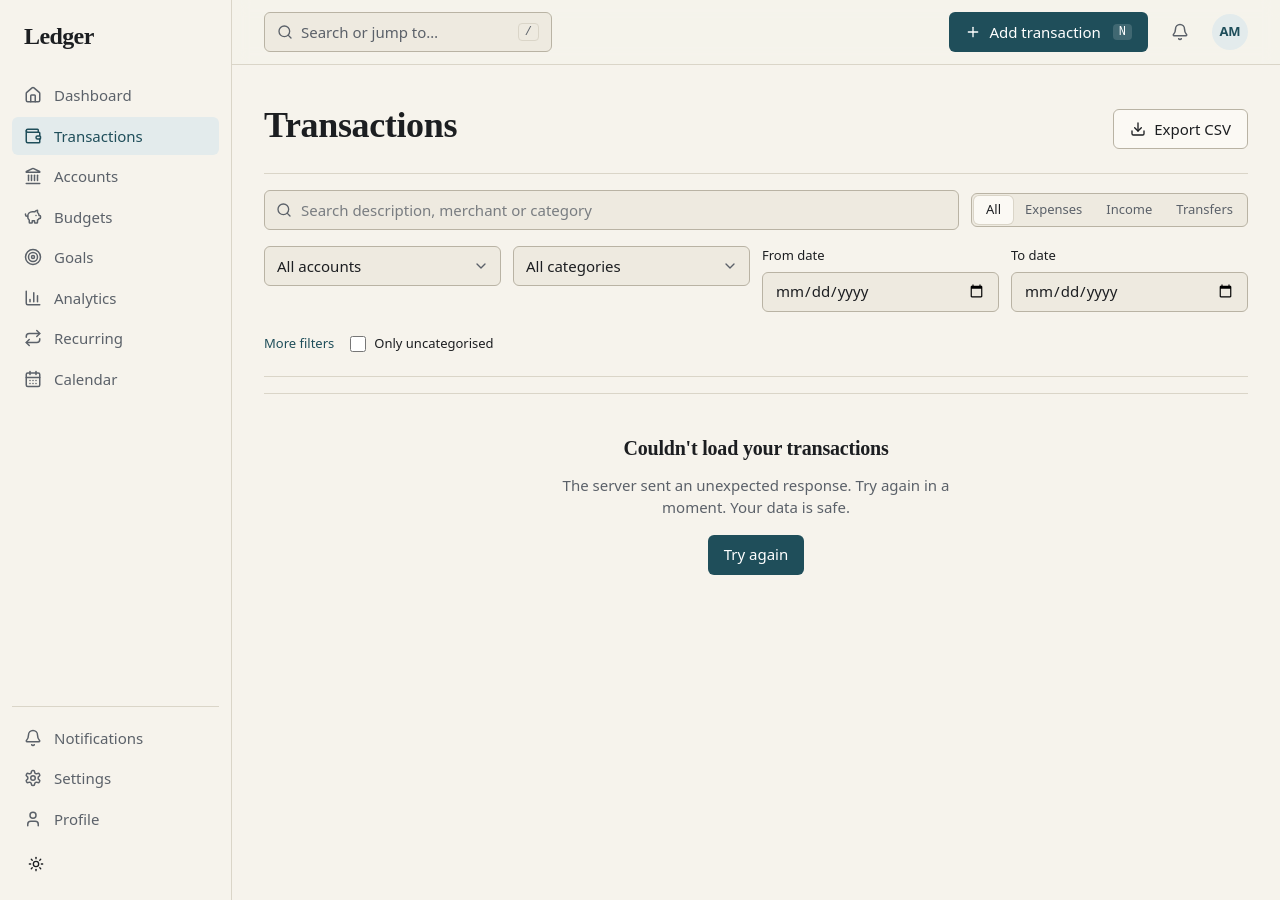
Scenario: transactions list › offers a retry when loading fails
expect the heading "Couldn't load your transactions" is shown: met, box [623, 434, 889, 462]
Click the button "Try again" at (756, 554), box [708, 534, 804, 574]
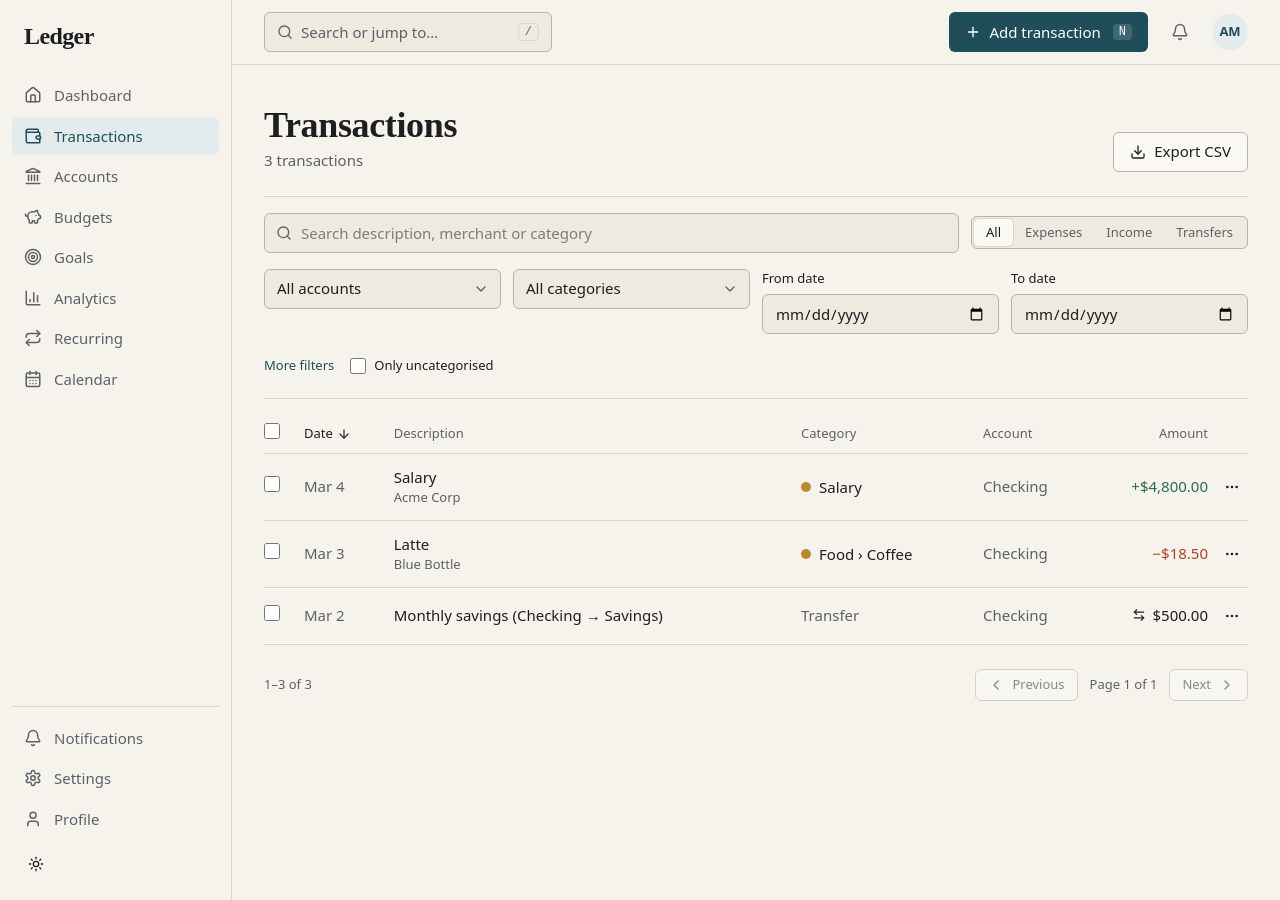
expect the table is shown: met, box [264, 415, 1248, 644]
